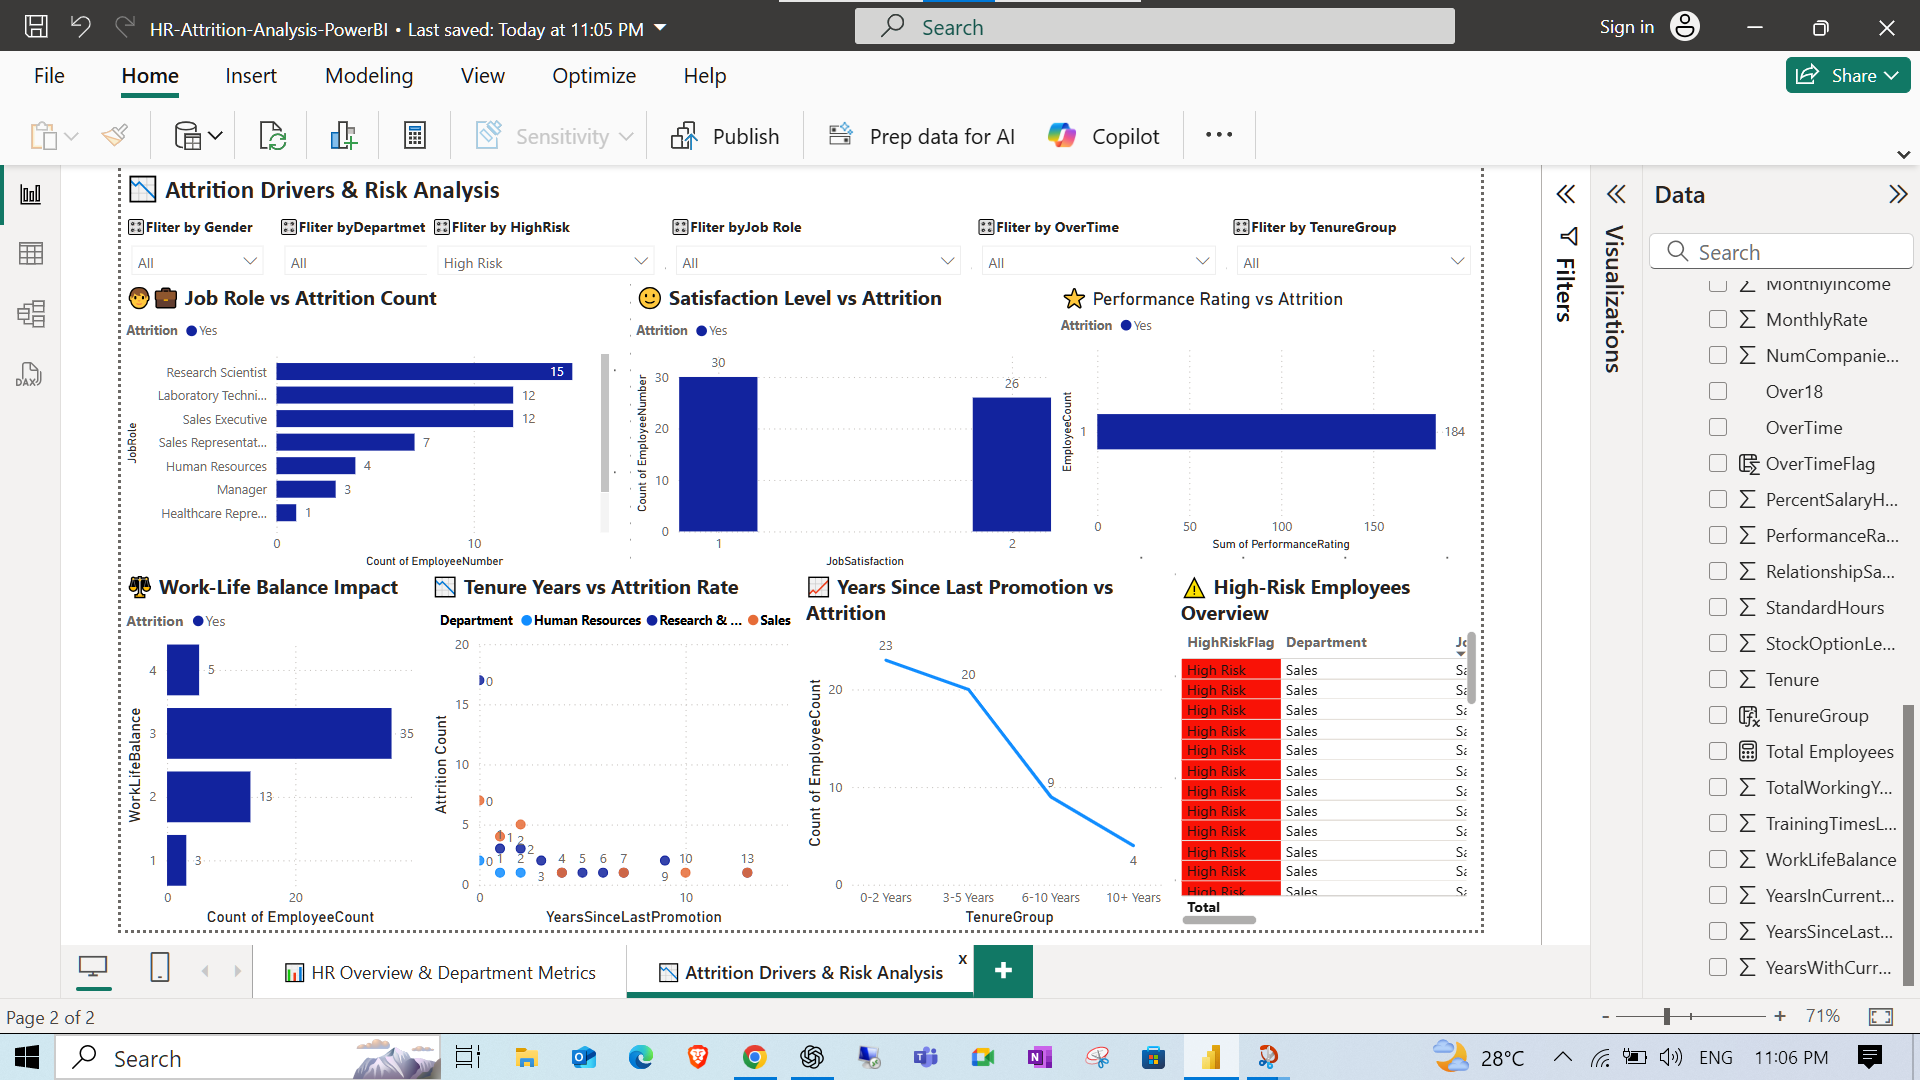

The page's visual inventory and layout, read from the dashboard file:
{"tool":"powerbi","page":{"name":"📉  Attrition Drivers & Risk Analysis","canvas":[1280,720],"ordinal":1},"visuals":[{"type":"barChart","title":"🧑💼 Job Role vs Attrition Count","fields":{"Category":["EmployeeData.JobRole"],"Y":["EmployeeData.EmployeeNumber"],"Series":["EmployeeData.Attrition"]},"box":[0,112,464,272],"z":0},{"type":"clusteredColumnChart","title":"\t🙂 Satisfaction Level vs Attrition","fields":{"Category":["EmployeeData.JobSatisfaction"],"Y":["EmployeeData.EmployeeNumber"],"Series":["EmployeeData.Attrition"]},"box":[480,112,400,272],"z":1000},{"type":"clusteredBarChart","title":"⭐ Performance Rating vs Attrition","fields":{"Y":["EmployeeData.PerformanceRating"],"Category":["EmployeeData.EmployeeCount"],"Series":["EmployeeData.Attrition"]},"box":[880,112,400,256],"z":2000},{"type":"barChart","title":"⚖️ Work-Life Balance Impact","fields":{"Category":["EmployeeData.WorkLifeBalance"],"Series":["EmployeeData.Attrition"],"Y":["EmployeeData.EmployeeCount"]},"box":[0,384,288,336],"z":3000},{"type":"lineChart","title":"\t📈 Years Since Last Promotion vs Attrition","fields":{"Category":["EmployeeData.TenureGroup"],"Y":["EmployeeData.EmployeeCount"]},"box":[640,384,352,336],"z":4000},{"type":"scatterChart","title":"📉 Tenure Years vs Attrition Rate","fields":{"X":["EmployeeData.YearsSinceLastPromotion"],"Y":["EmployeeData.Attrition Count"],"Series":["EmployeeData.Department"]},"box":[288,384,352,336],"z":5000},{"type":"tableEx","title":"⚠️  High-Risk Employees Overview","fields":{"Values":["EmployeeData.HighRiskFlag","EmployeeData.Department","EmployeeData.JobRole","EmployeeData.Gender","EmployeeData.JobSatisfaction","EmployeeData.OverTime","EmployeeData.PerformanceRating","EmployeeData.Attrition","EmployeeData.YearsSinceLastPromotion"]},"box":[992,384,288,336],"z":6000},{"type":"actionButton","box":[0,0,100,40],"z":7000},{"type":"slicer","title":"🎛️Fliter byJob Role","fields":{"Values":["EmployeeData.JobRole"]},"box":[512,48,288,64],"z":8000},{"type":"slicer","title":"🎛️Fliter by Gender","fields":{"Values":["EmployeeData.Gender"]},"box":[0,48,144,64],"z":9000},{"type":"slicer","title":"🎛️Fliter byDepartmet","fields":{"Values":["EmployeeData.Department"]},"box":[144,48,176,64],"z":10000},{"type":"textbox","box":[0,0,1280,48],"z":11000},{"type":"slicer","title":"🎛️Fliter by OverTime","fields":{"Values":["EmployeeData.OverTime"]},"box":[800,48,240,64],"z":12000},{"type":"slicer","title":"🎛️Fliter by HighRisk","fields":{"Values":["EmployeeData.HighRiskFlag"]},"box":[288,48,224,64],"z":13000},{"type":"slicer","title":"🎛️Fliter by TenureGroup","fields":{"Values":["EmployeeData.TenureGroup"]},"box":[1040,48,240,64],"z":14000}]}

Visuals, with their boxes on the page's 1280x720 design canvas (x1, y1, x2, y2). These are canvas units, not pixel positions in the 1920x1080 screenshot, which may show the page scaled, cropped or inside an application window:
"🧑💼 Job Role vs Attrition Count" barChart: [x1=0, y1=112, x2=464, y2=384]
"	🙂 Satisfaction Level vs Attrition" clusteredColumnChart: [x1=480, y1=112, x2=880, y2=384]
"⭐ Performance Rating vs Attrition" clusteredBarChart: [x1=880, y1=112, x2=1280, y2=368]
"⚖️ Work-Life Balance Impact" barChart: [x1=0, y1=384, x2=288, y2=720]
"	📈 Years Since Last Promotion vs Attrition" lineChart: [x1=640, y1=384, x2=992, y2=720]
"📉 Tenure Years vs Attrition Rate" scatterChart: [x1=288, y1=384, x2=640, y2=720]
"⚠️  High-Risk Employees Overview" tableEx: [x1=992, y1=384, x2=1280, y2=720]
actionButton: [x1=0, y1=0, x2=100, y2=40]
"🎛️Fliter byJob Role" slicer: [x1=512, y1=48, x2=800, y2=112]
"🎛️Fliter by Gender" slicer: [x1=0, y1=48, x2=144, y2=112]
"🎛️Fliter byDepartmet" slicer: [x1=144, y1=48, x2=320, y2=112]
textbox: [x1=0, y1=0, x2=1280, y2=48]
"🎛️Fliter by OverTime" slicer: [x1=800, y1=48, x2=1040, y2=112]
"🎛️Fliter by HighRisk" slicer: [x1=288, y1=48, x2=512, y2=112]
"🎛️Fliter by TenureGroup" slicer: [x1=1040, y1=48, x2=1280, y2=112]
